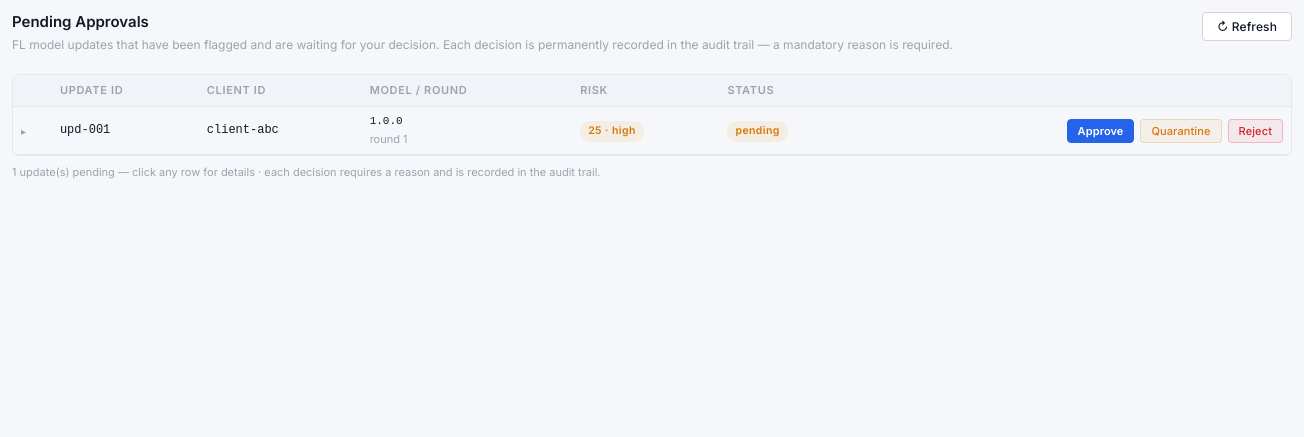
Test case: Approvals › opens reject confirmation panel
Click the button "Reject": [1255, 131] box [1228,119,1283,143]
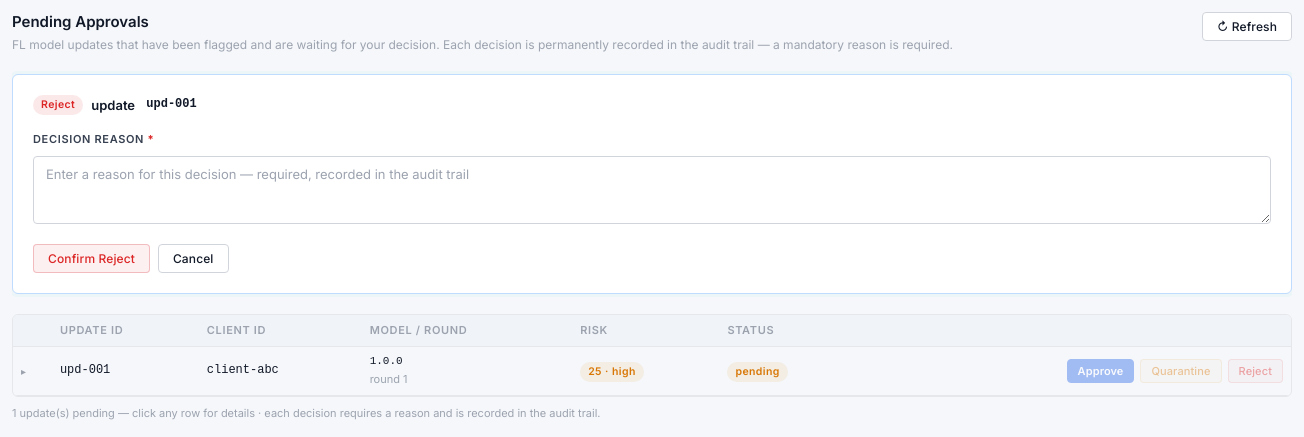
Expected: the button "Confirm Reject" is shown, [33,244,150,273]
